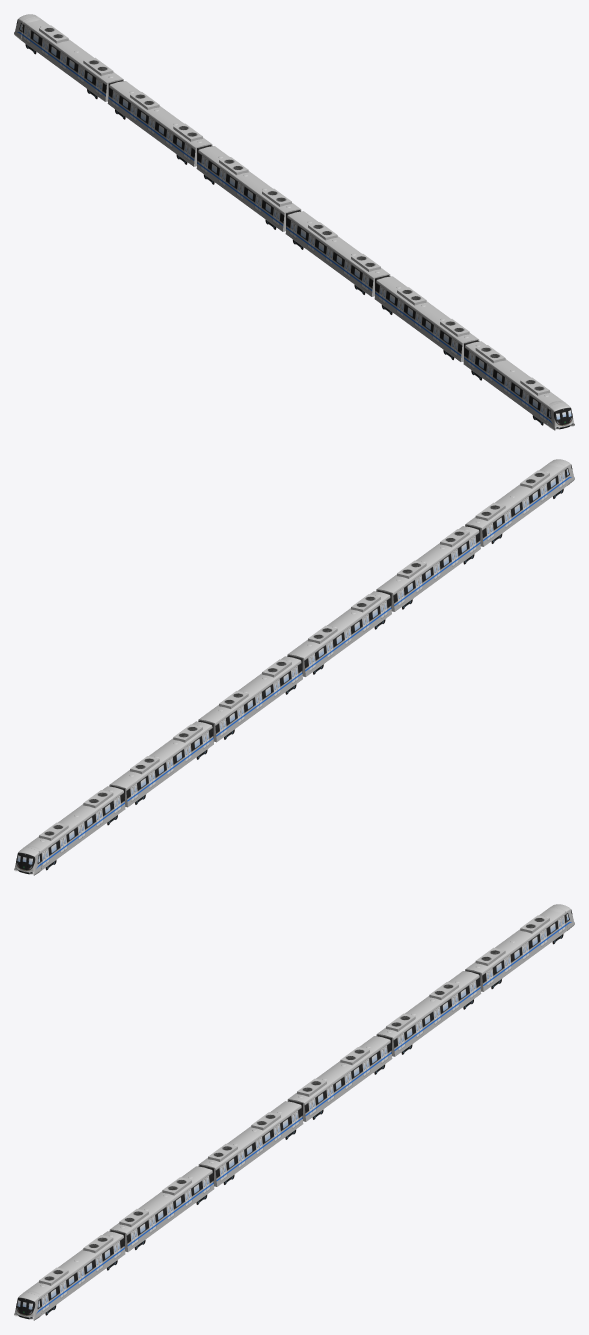
The model's file is metro.glb.
3 renders of one model, top to bottom at view 1: azimuth 30°, elevation 25°; view 2: azimuth 150°, elevation 25°; view 3: azimuth 330°, elevation 25°, orthographic.
Parts seen in each view (by area): view 1: 列车01; view 2: 列车01; view 3: 列车01.
Part boxes in pixels (<box>): 列车01: <box>14,14,574,430</box>; 列车01: <box>14,459,574,875</box>; 列车01: <box>14,904,574,1320</box>.
Bounding box in the file's own units: 3.57 × 4.27 × 166.
3 materials, 3 textured.
